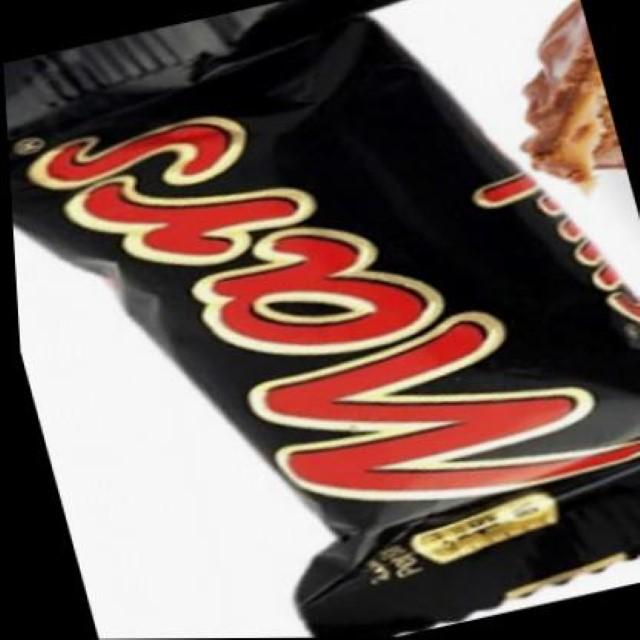mars_chocolate: (46, 106, 640, 640)
